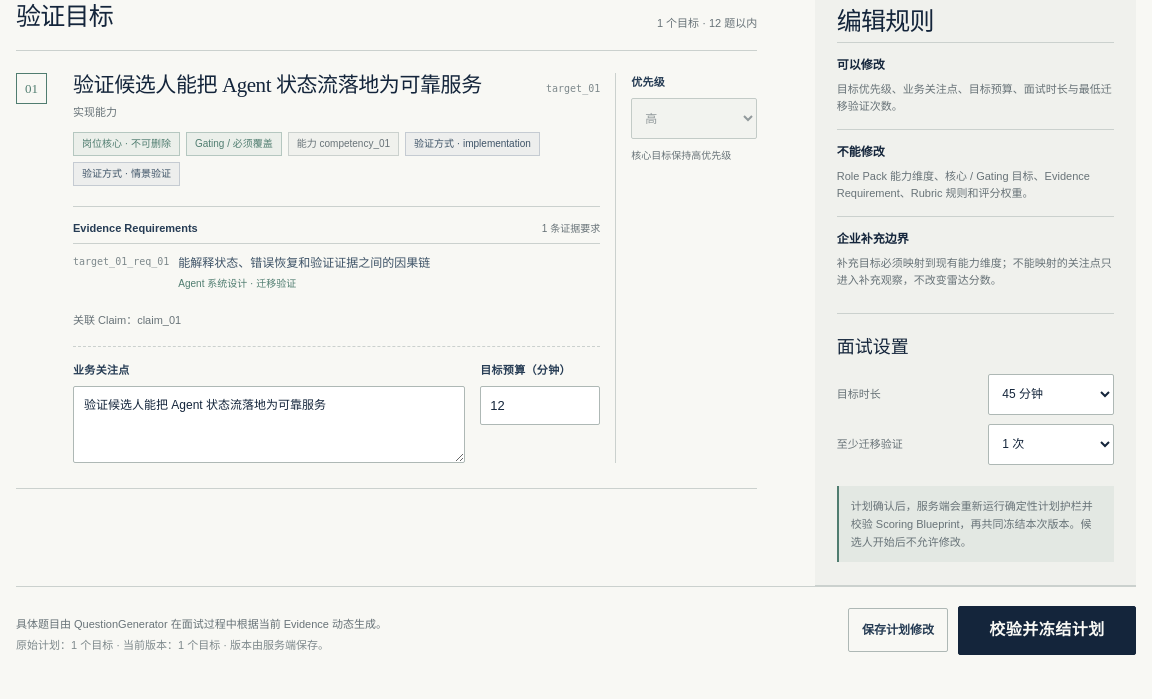
Test: PlanReviewPage › prevents duplicate freeze submissions while saving
(page scrolled)
Click the button "校验并冻结计划".
click(1047, 630)  # box [958,606,1136,655]
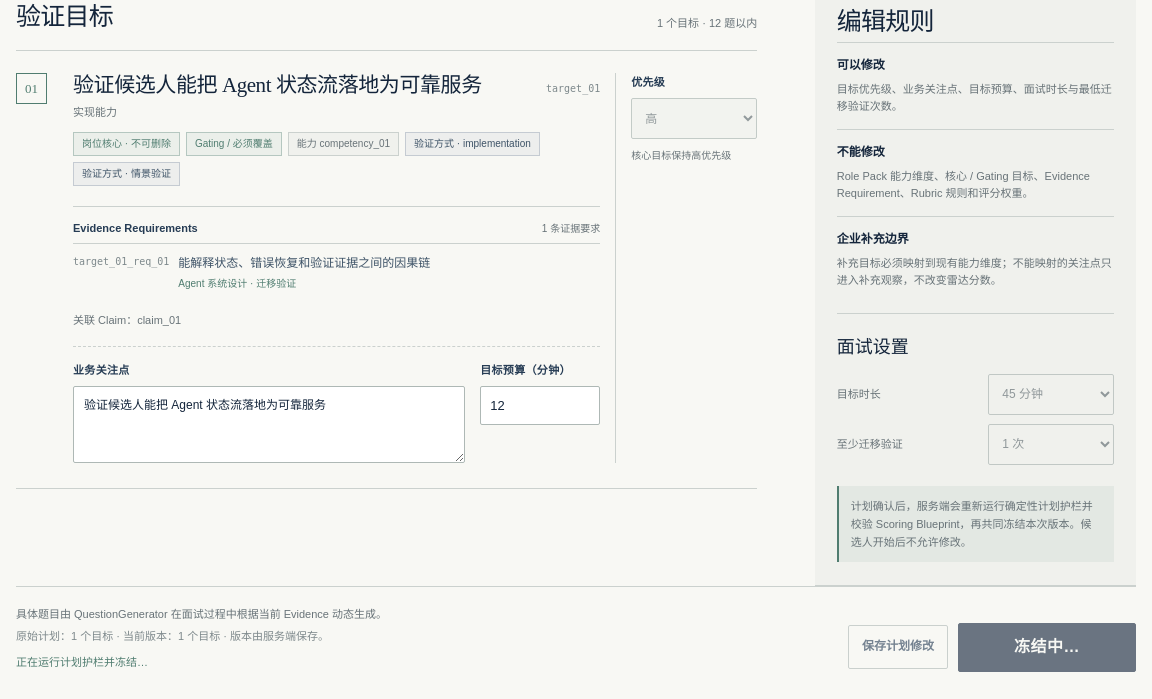
Expected: the button named "校验并冻结计划" is disabled
Click the button named "校验并冻结计划".
click(1047, 647)  # box [958,623,1136,672]
(page scrolled)
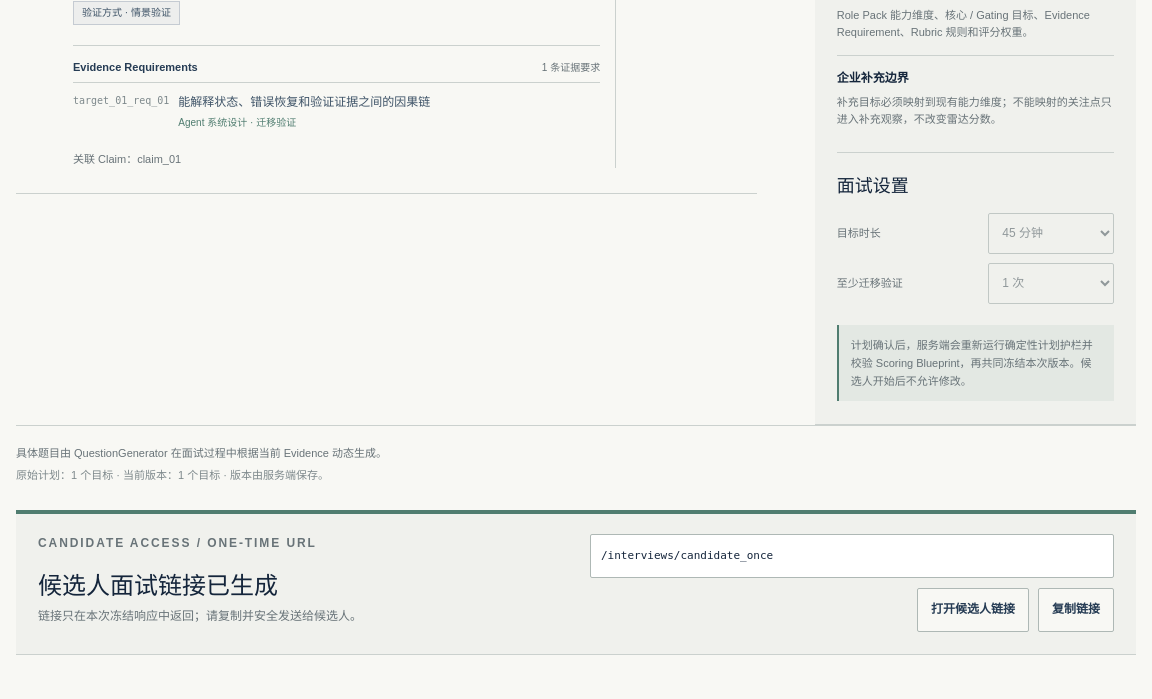
Expected: the field named "候选人链接" holds "/interviews/candidate_once", [590,534,1114,578]
